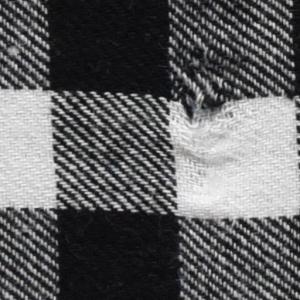Damage: (173, 42, 252, 183)
